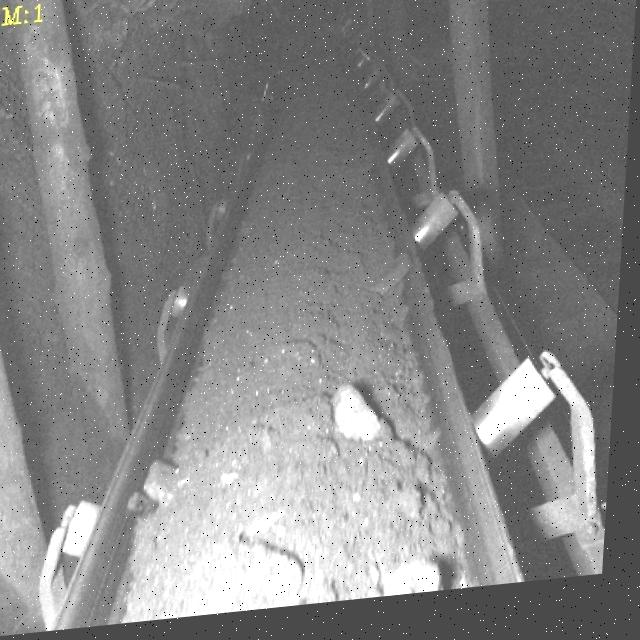large_sized_coal: (323, 395, 391, 462), (389, 569, 467, 606)
